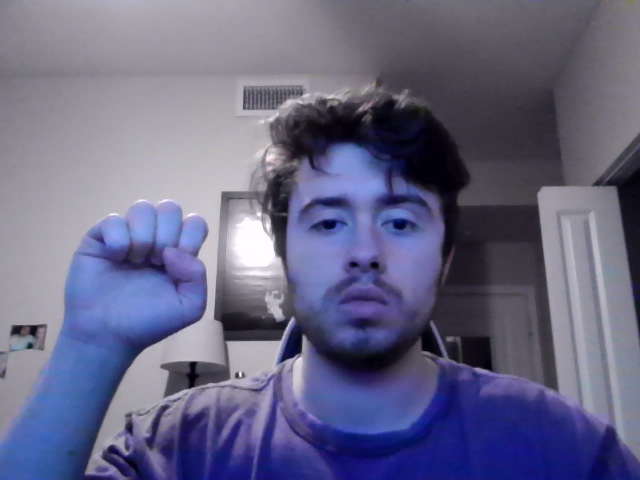e: (63, 198, 209, 360)
